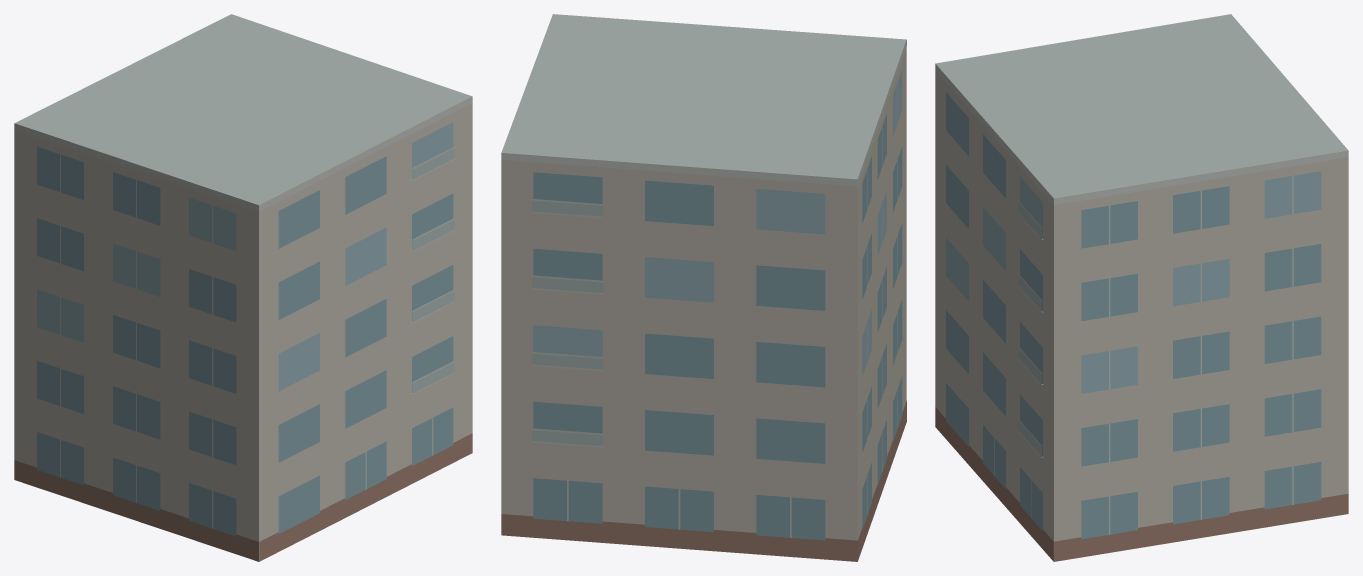
File: survey-upis-32849994.glb
The picture shows the model from 3 angles, left to right: view 1: azimuth 30°, elevation 25°; view 2: azimuth 150°, elevation 25°; view 3: azimuth 270°, elevation 25°; orthographic projection. The views are drawn at different scales.
Parts seen in each view (by area): view 1: survey-upis-32849994.tmp; view 2: survey-upis-32849994.tmp; view 3: survey-upis-32849994.tmp.
Part boxes in pixels (x1,y1,x2,y2): survey-upis-32849994.tmp: (14, 14, 472, 561); survey-upis-32849994.tmp: (501, 14, 906, 561); survey-upis-32849994.tmp: (935, 14, 1348, 561).
Size of the model in its own units: 14.49 by 13.3 by 13.72.
